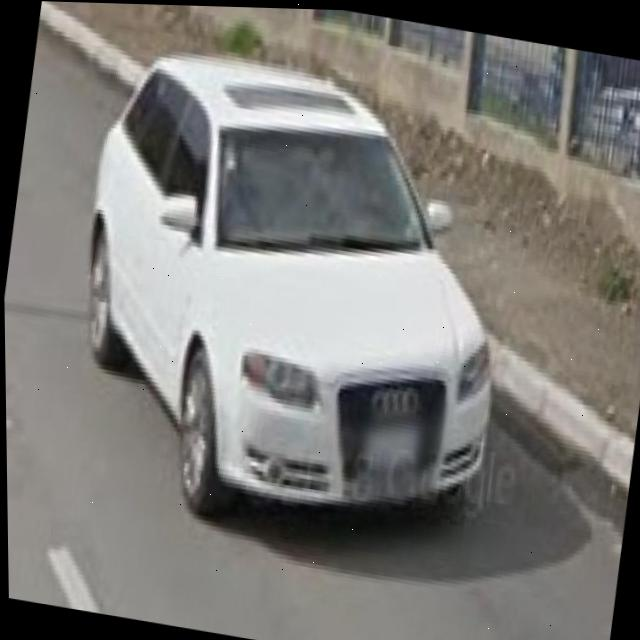vehicle: (52, 30, 539, 557)
